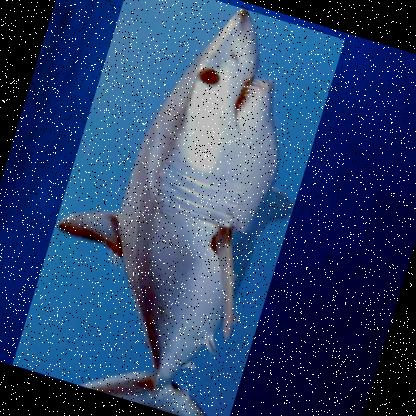mako-shark: (10, 0, 345, 415)
